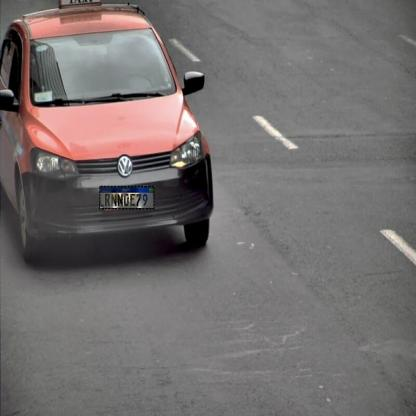PlacaM: (100, 186, 154, 209)
